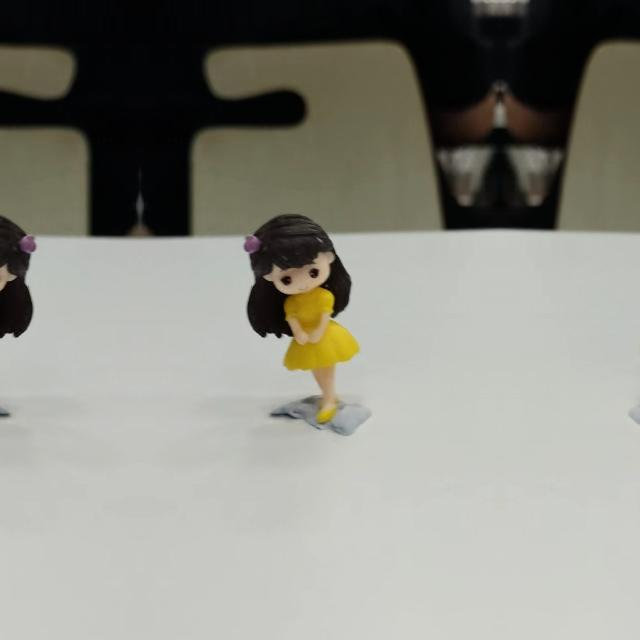woman head: (244, 218, 336, 294), (0, 217, 35, 294)
